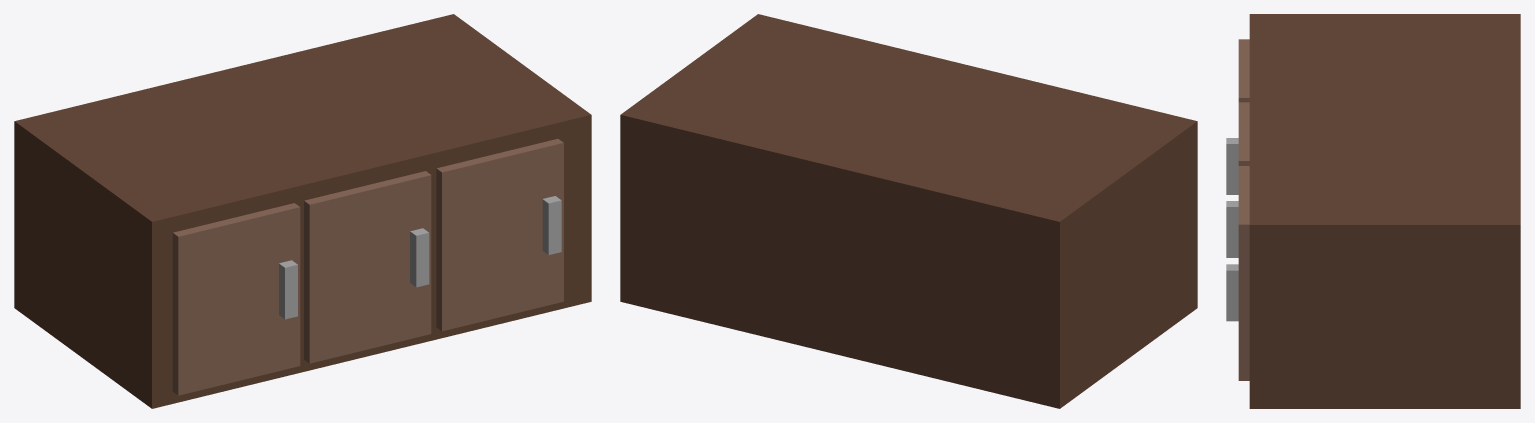
Rendered from Cabinet 02.FBX.
The picture shows the model from 3 angles, left to right: view 1: azimuth 30°, elevation 25°; view 2: azimuth 150°, elevation 25°; view 3: azimuth 270°, elevation 25°; orthographic projection.
Parts seen in each view (by area): view 1: Cabinet 02; view 2: Cabinet 02; view 3: Cabinet 02.
Boxes of the visible parts, x1,y1,x2,y2 form: Cabinet 02: (14, 14, 591, 408); Cabinet 02: (620, 14, 1197, 408); Cabinet 02: (1226, 14, 1520, 408).
Size of the model in its own units: 154 by 62.6 by 90.71.
